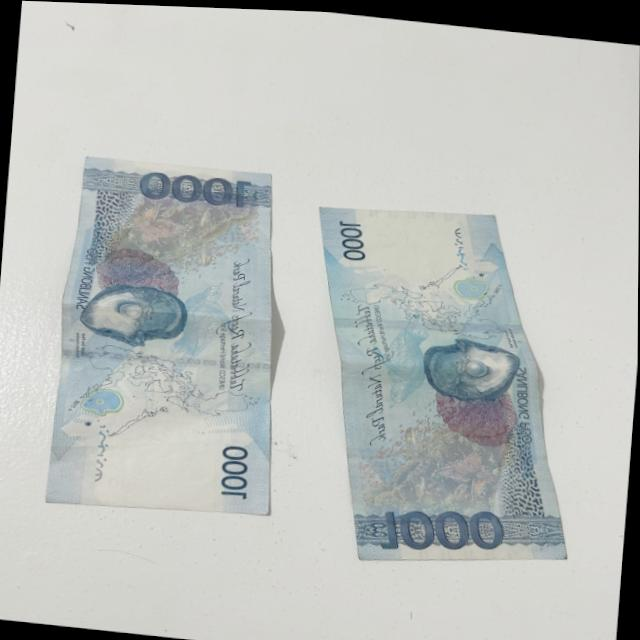1000_pearl: (418, 334, 512, 407), (86, 280, 182, 345)
1000_pearl_watermark: (78, 386, 125, 416), (449, 269, 494, 298), (189, 284, 192, 285)
value_watermark: (104, 468, 161, 498)
